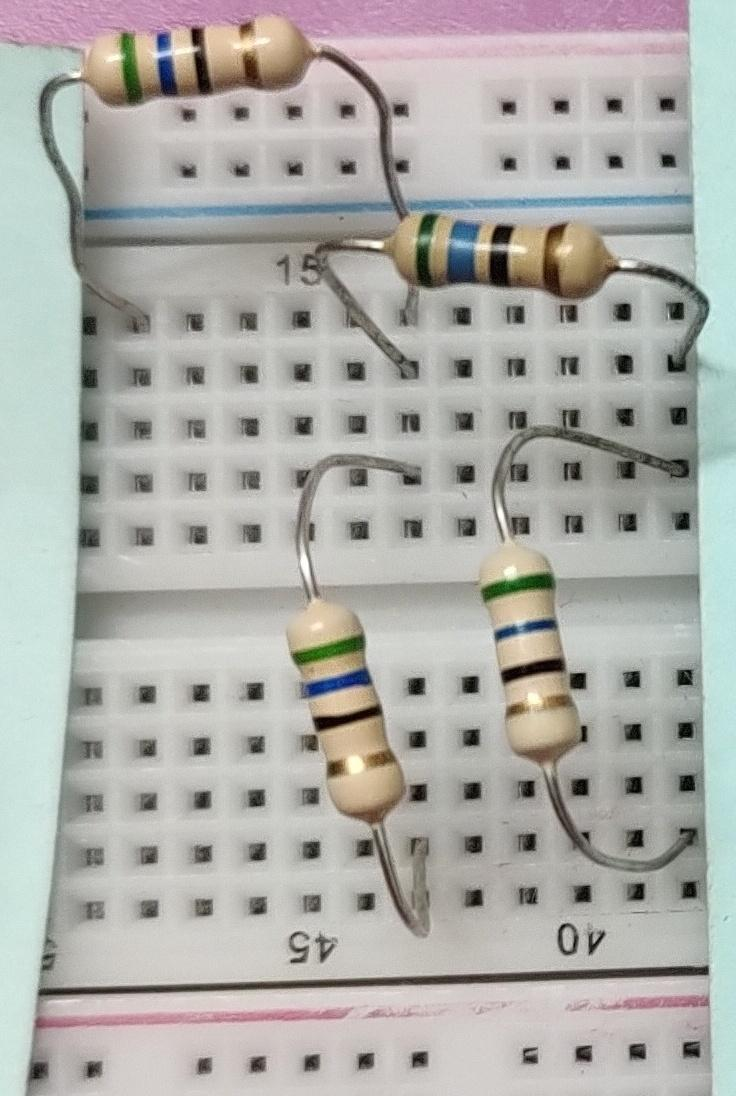resistor: (279, 601, 418, 821), (379, 201, 630, 315), (475, 543, 592, 771), (71, 0, 319, 107)
